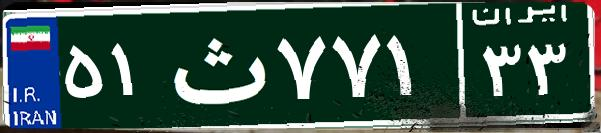1: (385, 28, 445, 110), (110, 28, 158, 105)
3: (475, 38, 525, 113), (525, 38, 570, 115)
5: (57, 26, 110, 107)
7: (273, 28, 330, 110), (330, 28, 385, 110)
ث: (158, 15, 273, 115)
